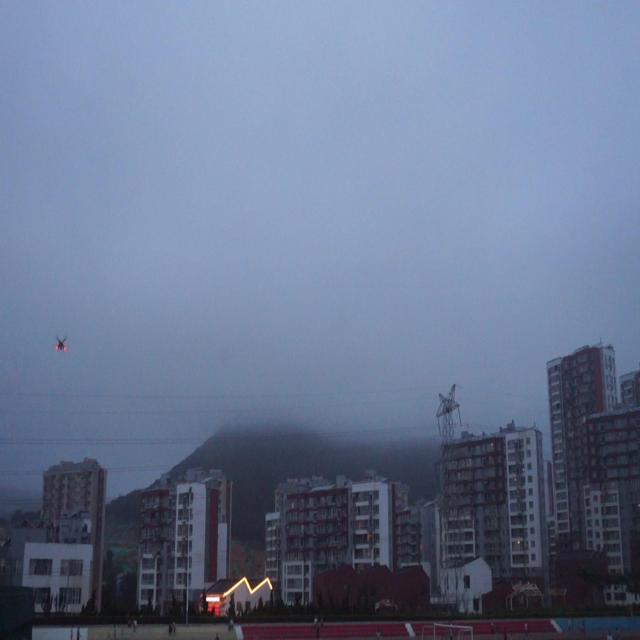drone: (52, 331, 70, 358)
